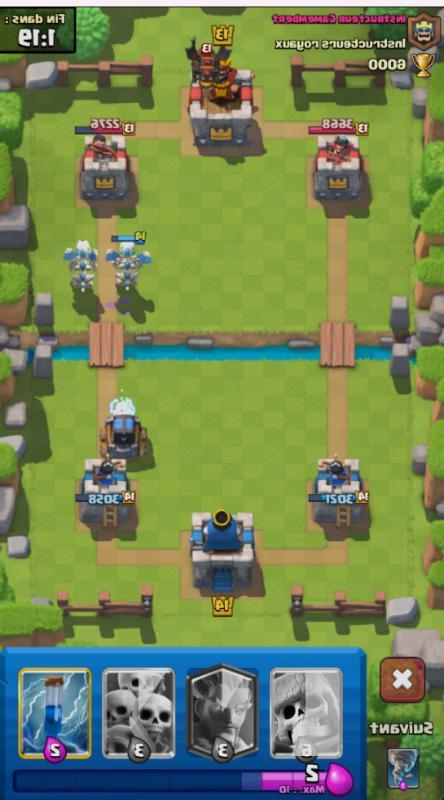player_skeleton_dragon: (102, 224, 154, 294), (57, 234, 103, 302)
player_sparky: (96, 390, 153, 464)
